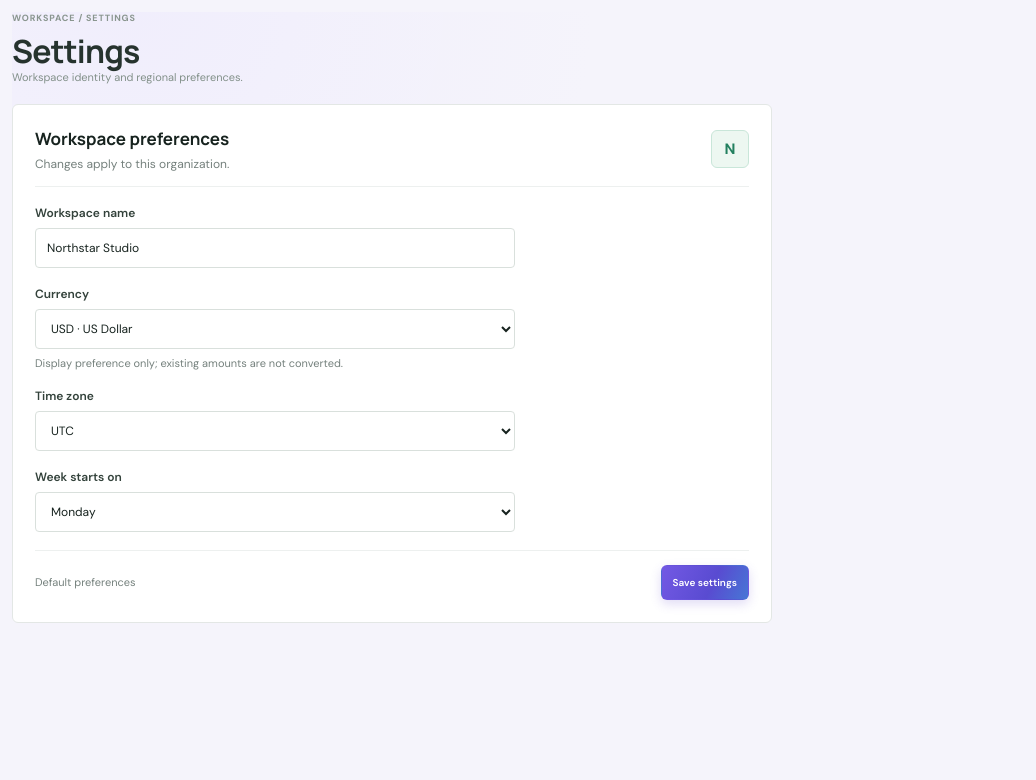
Test: SettingsManager › loads settings and saves workspace preferences through the API
Step 1. Select "EUR · Euro" in the dropdown labelled "Currency" → (275, 329), box [35, 309, 515, 349]
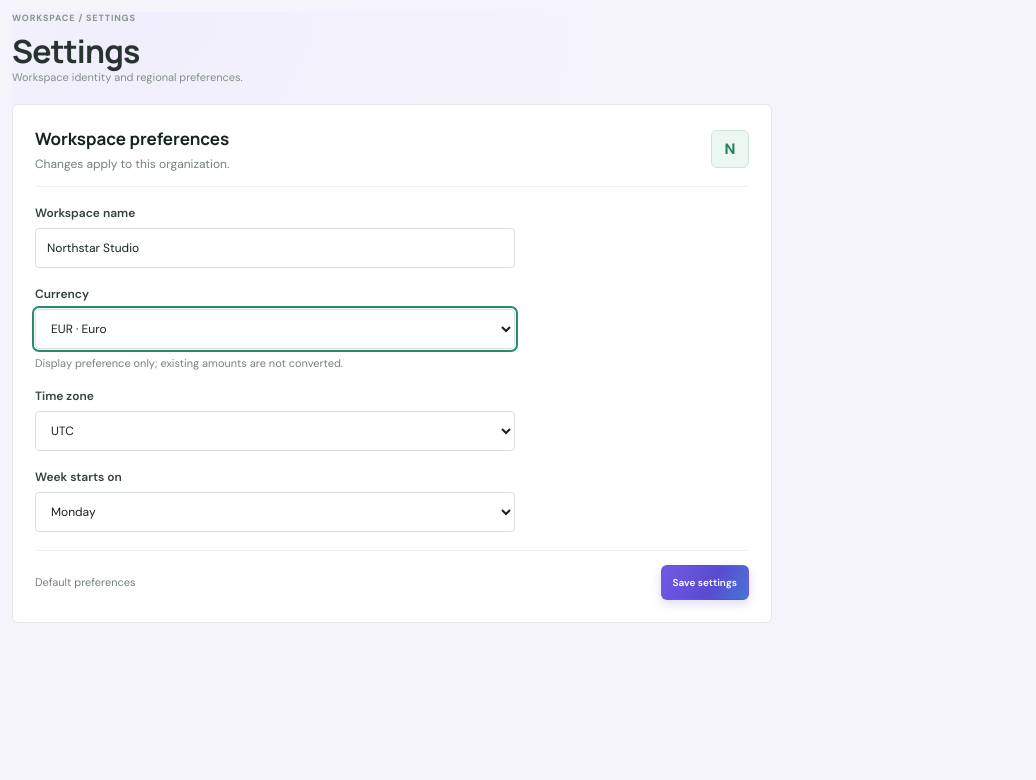
Step 2. Click the button "Save settings" → (705, 582), box [660, 565, 749, 600]
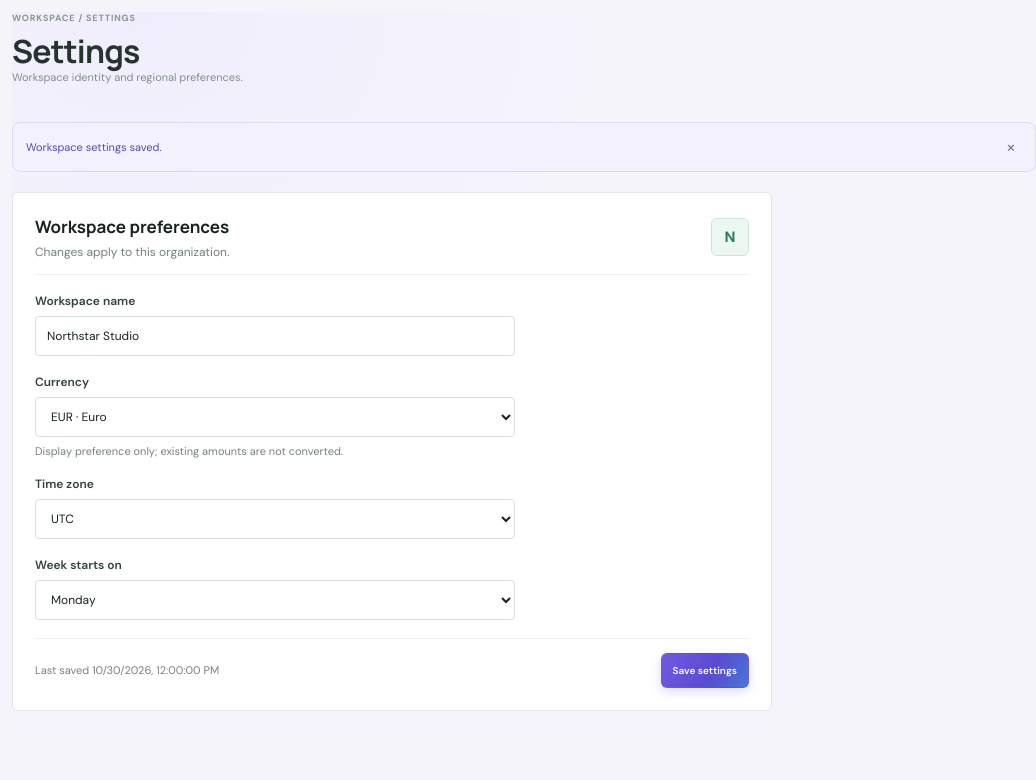
Check: the message shows "Workspace settings saved", box [26, 140, 162, 154]
